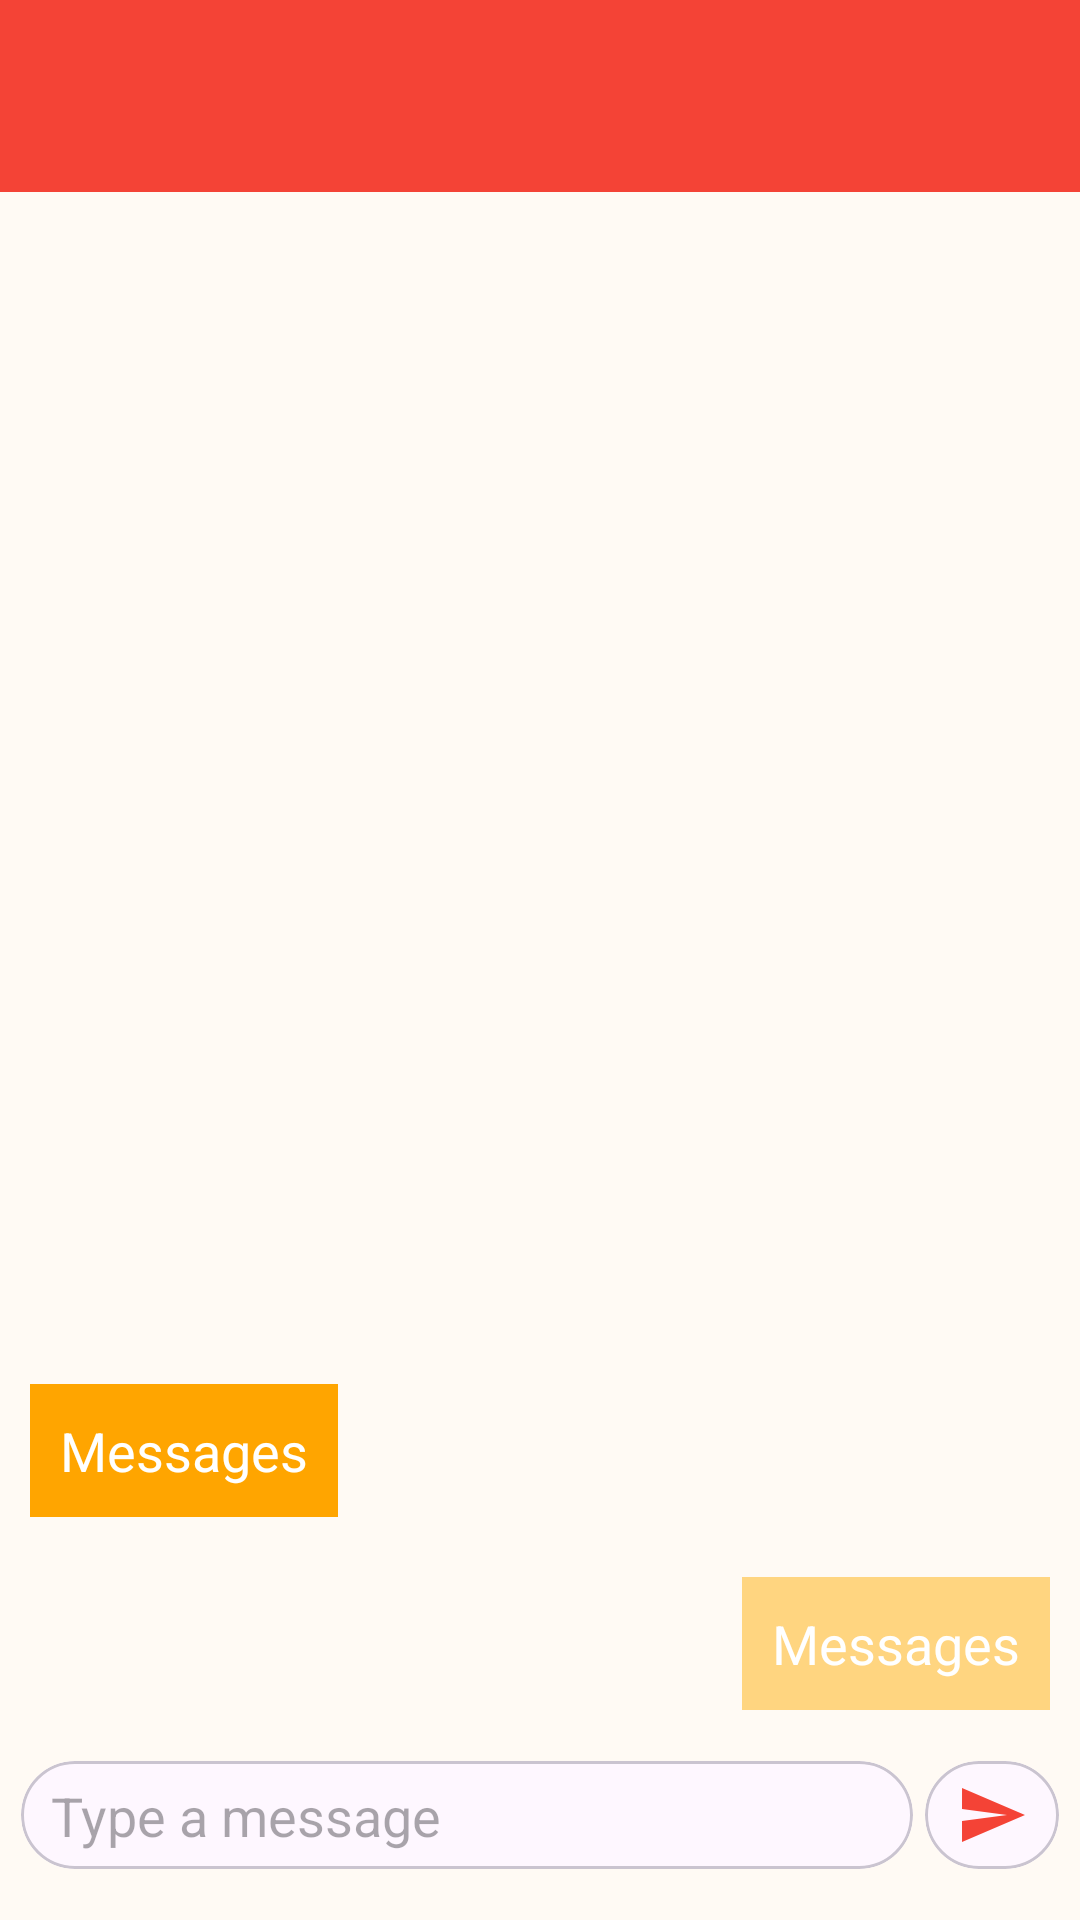

Icon bounding boxes for this 1080 x 1920 phone screenshot, format (x1, y1, x2, y2):
this image for send button: (962, 1788, 1025, 1842)
